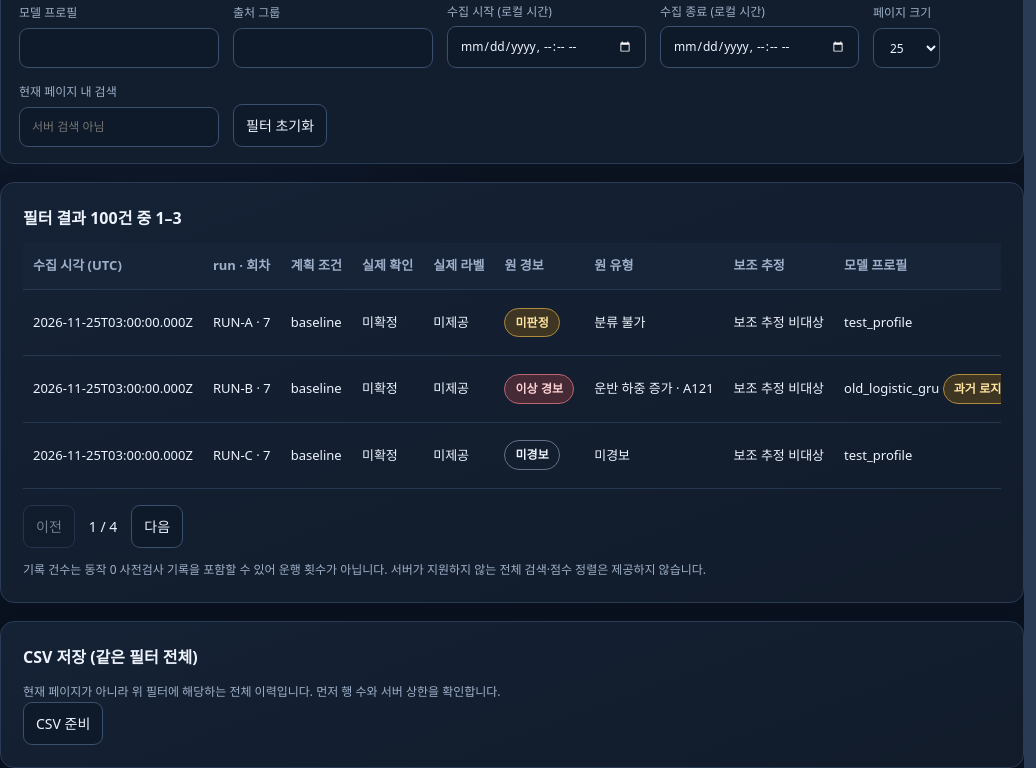
Test: XarmHistory › CSV 헤더를 읽지 못하면 오류로 표시 (전체로 가정하지 않음)
(page scrolled)
Expected: the text "RUN-A · 7" is shown, [203,289,281,356]
Click the button "CSV 준비": (63, 724) [23,702,103,745]
(page scrolled)
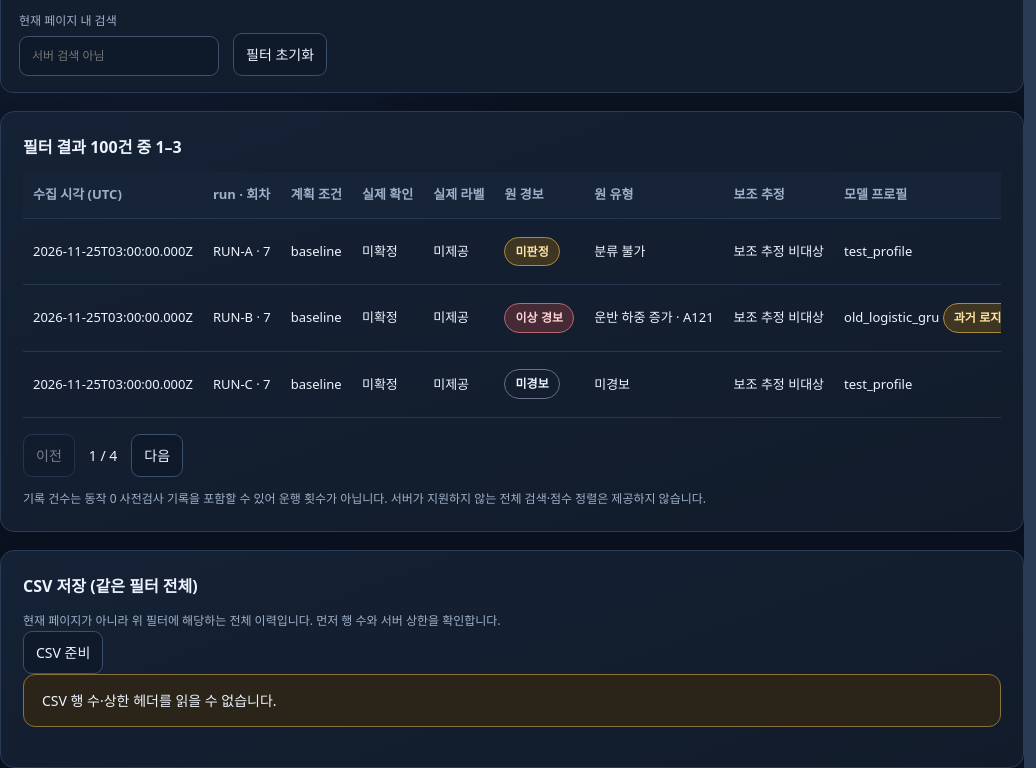
Result: the message shows "읽을 수 없습니다" at [42,691,277,710]
